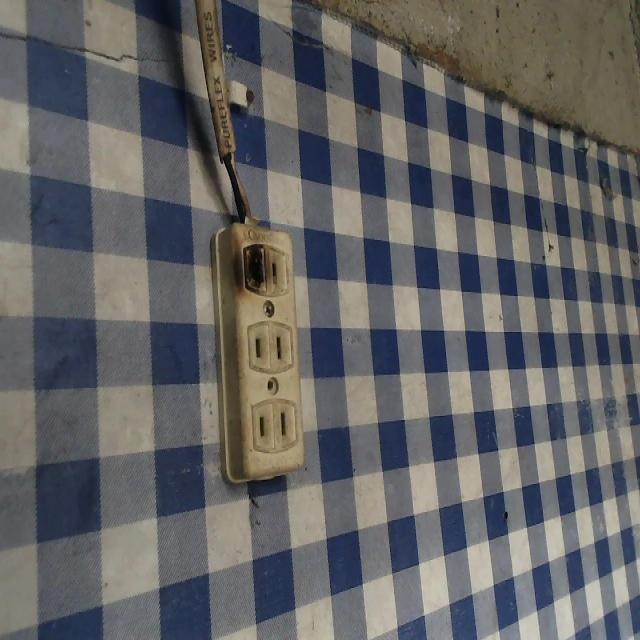-: (237, 239, 267, 297)
